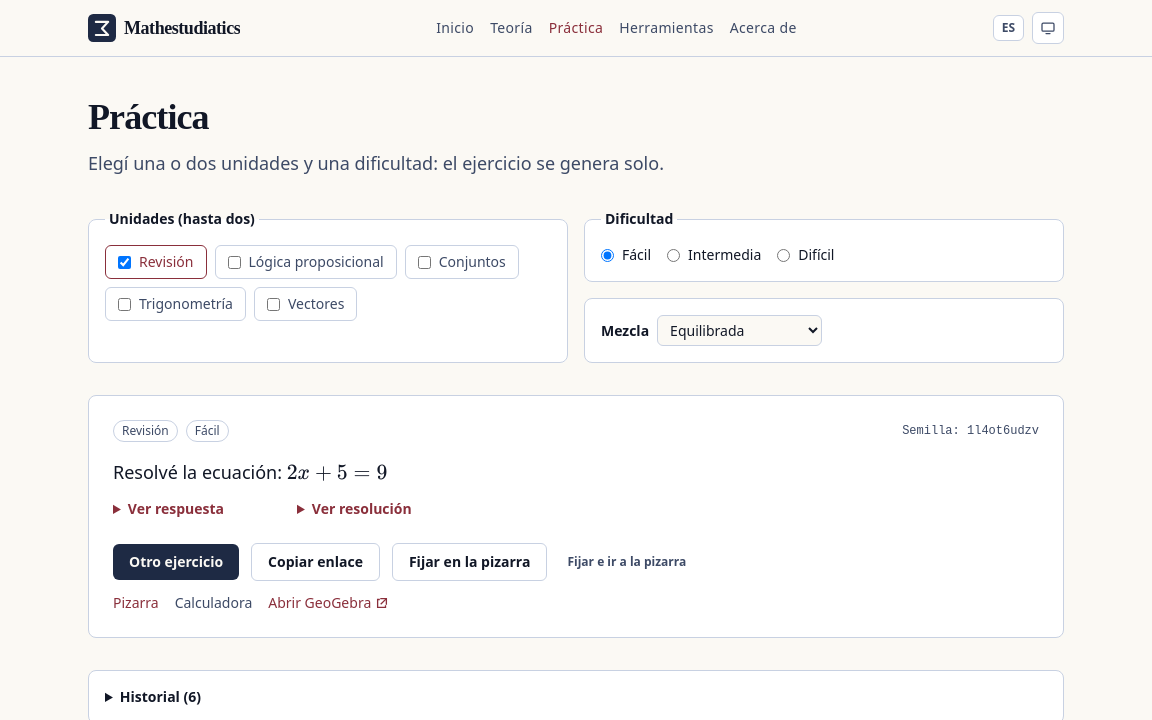
Scenario: practice page › changes the difficulty through the controls
expect the heading "Práctica" is shown: met, box [88, 97, 209, 137]
Click the radio button labelled "Difícil" at (784, 255), box [777, 248, 790, 262]
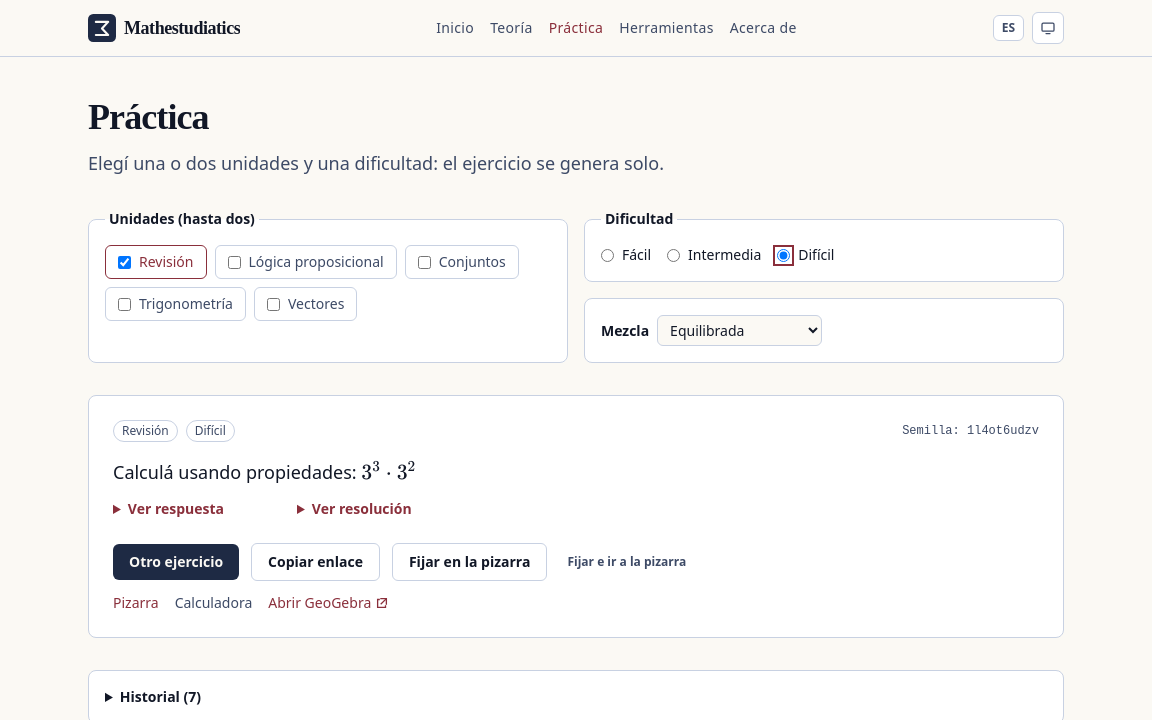
expect the text "Difícil" is shown: met, box [186, 420, 235, 442]
